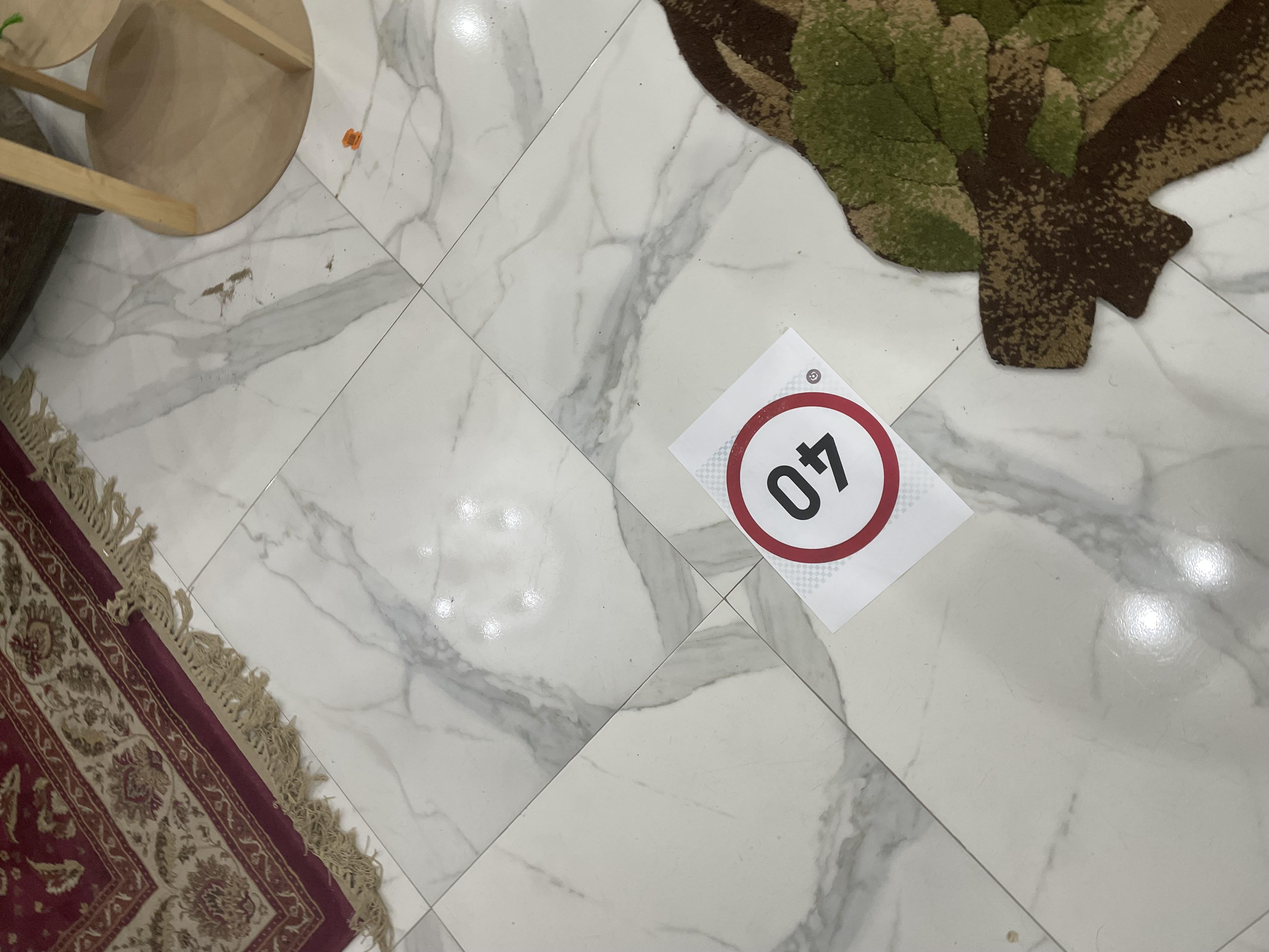40-Speed: (520, 274, 755, 410)
